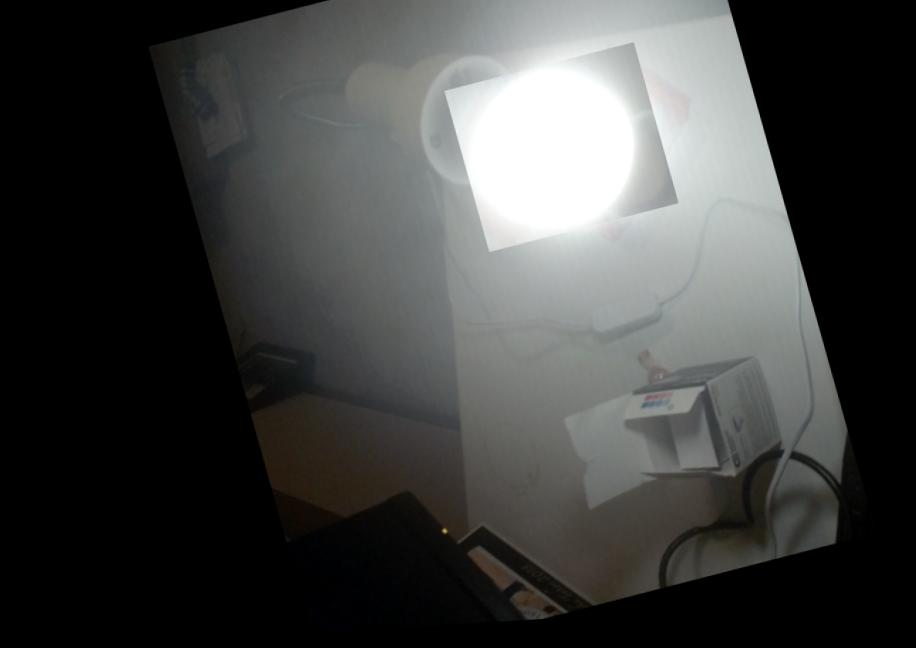TubeLight: (440, 48, 677, 258)
